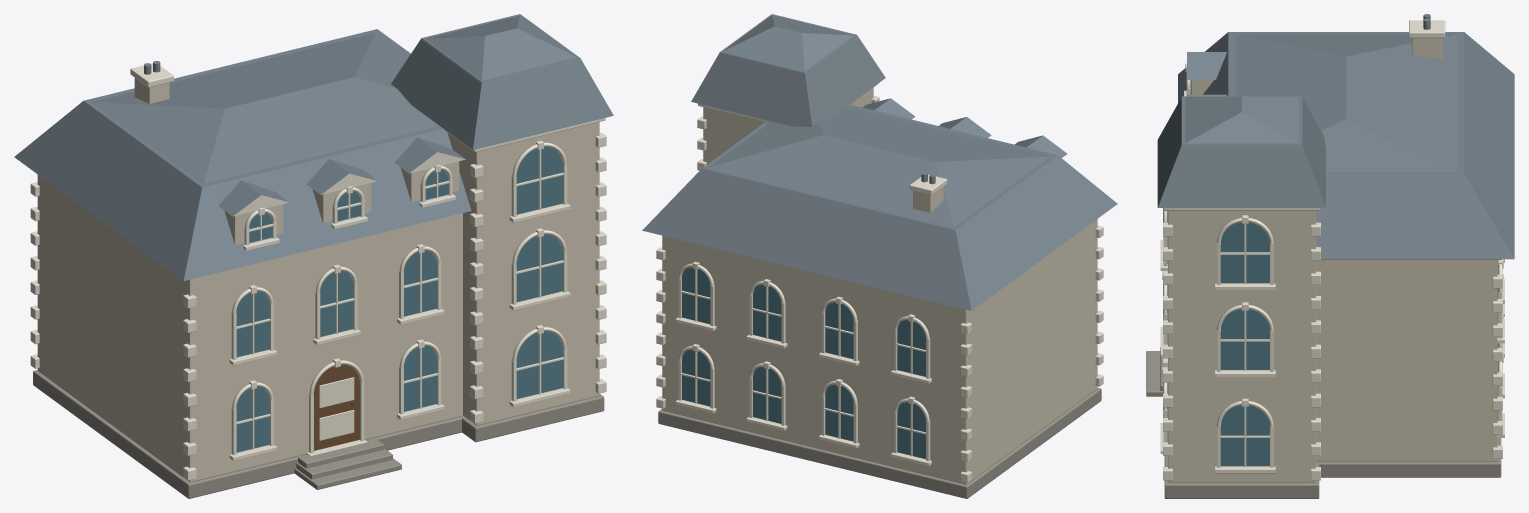
File: large_second_empire.glb
3 renders of one model, left to right at view 1: azimuth 30°, elevation 25°; view 2: azimuth 150°, elevation 25°; view 3: azimuth 270°, elevation 25°, orthographic. The views are drawn at different scales.
Parts seen in each view (by area): view 1: Second Empire main block closed exterior walls, Main Second Empire steep mansard skirt, Main Second Empire upper cap closed hipped roof, Tall corner pavilion closed exterior walls, Pavilion mansard steep mansard skirt, Second Empire main block closed foundation, Pavilion mansard upper cap closed hipped roof, Pavilion front arch arched glazing.002, Pavilion front arch arched glazing, Pavilion front arch arched glazing.001, Tall corner pavilion closed foundation, Empire central double door arched glazing (+16 smaller); view 2: Second Empire main block closed exterior walls, Main Second Empire steep mansard skirt, Main Second Empire upper cap closed hipped roof, Pavilion mansard steep mansard skirt, Second Empire main block closed foundation, Pavilion mansard upper cap closed hipped roof, Tall corner pavilion closed exterior walls, Empire rear window arched glazing.001, Empire rear window arched glazing.002, Empire rear window arched glazing, Empire rear window arched glazing.003, Empire rear window arched glazing.004 (+7 smaller); view 3: Second Empire main block closed exterior walls, Tall corner pavilion closed exterior walls, Main Second Empire steep mansard skirt, Main Second Empire upper cap closed hipped roof, Pavilion mansard steep mansard skirt, Pavilion mansard upper cap closed hipped roof, Second Empire main block closed foundation, Pavilion side arch arched glazing.001, Pavilion side arch arched glazing.002, Pavilion side arch arched glazing, Tall corner pavilion closed foundation, Dormer little pediment solid gabled roof (+7 smaller).
Part boxes in pixels (x1,y1,x2,y2): Second Empire main block closed exterior walls: (37,174,462,482); Main Second Empire steep mansard skirt: (14,29,471,280); Main Second Empire upper cap closed hipped roof: (92,33,438,183); Tall corner pavilion closed exterior walls: (447,122,599,425); Pavilion mansard steep mansard skirt: (391,14,613,149); Second Empire main block closed foundation: (33,370,463,498); Pavilion mansard upper cap closed hipped roof: (421,15,580,83); Pavilion front arch arched glazing.002: (516,146,562,214); Pavilion front arch arched glazing: (516,331,562,398); Pavilion front arch arched glazing.001: (516,234,562,301); Tall corner pavilion closed foundation: (462,394,604,442); Empire central double door arched glazing: (314,364,359,450); Second Empire main block closed exterior walls: (662,219,1097,484); Main Second Empire steep mansard skirt: (642,104,1117,310); Main Second Empire upper cap closed hipped roof: (709,107,1050,226); Pavilion mansard steep mansard skirt: (691,14,885,126); Second Empire main block closed foundation: (658,388,1101,498); Pavilion mansard upper cap closed hipped roof: (719,15,856,73); Tall corner pavilion closed exterior walls: (703,87,873,164); Empire rear window arched glazing.001: (897,319,925,376); Empire rear window arched glazing.002: (825,384,853,441); Empire rear window arched glazing: (897,402,925,458); Empire rear window arched glazing.003: (825,302,853,358); Empire rear window arched glazing.004: (753,366,781,423); Second Empire main block closed exterior walls: (1316,260,1497,461); Tall corner pavilion closed exterior walls: (1168,211,1315,482); Main Second Empire steep mansard skirt: (1178,32,1514,259); Main Second Empire upper cap closed hipped roof: (1235,34,1456,171); Pavilion mansard steep mansard skirt: (1157,96,1325,207); Pavilion mansard upper cap closed hipped roof: (1181,96,1302,145); Second Empire main block closed foundation: (1318,438,1501,477); Pavilion side arch arched glazing.001: (1220,309,1269,369); Pavilion side arch arched glazing.002: (1220,222,1269,282); Pavilion side arch arched glazing: (1220,405,1269,465); Tall corner pavilion closed foundation: (1164,456,1319,498); Dormer little pediment solid gabled roof: (1187,52,1226,79).
Size of the model in its own units: 14.3 by 11.92 by 10.94.
